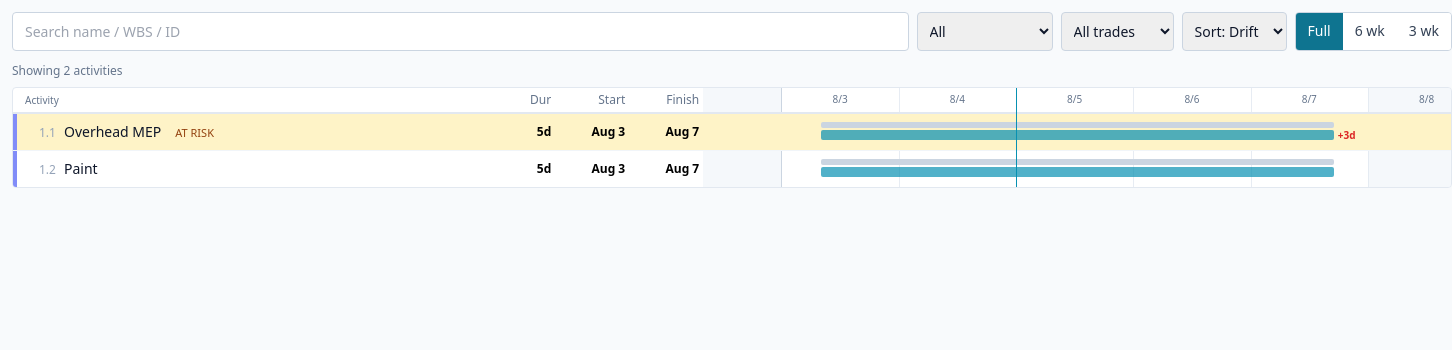
Test case: ScheduleBody › keeps the correct section name under a non-wbs sort
This screenshot has width=1452, height=350.
Click the text "Overhead MEP": (113, 131) x1=64 y1=122 x2=161 y2=140
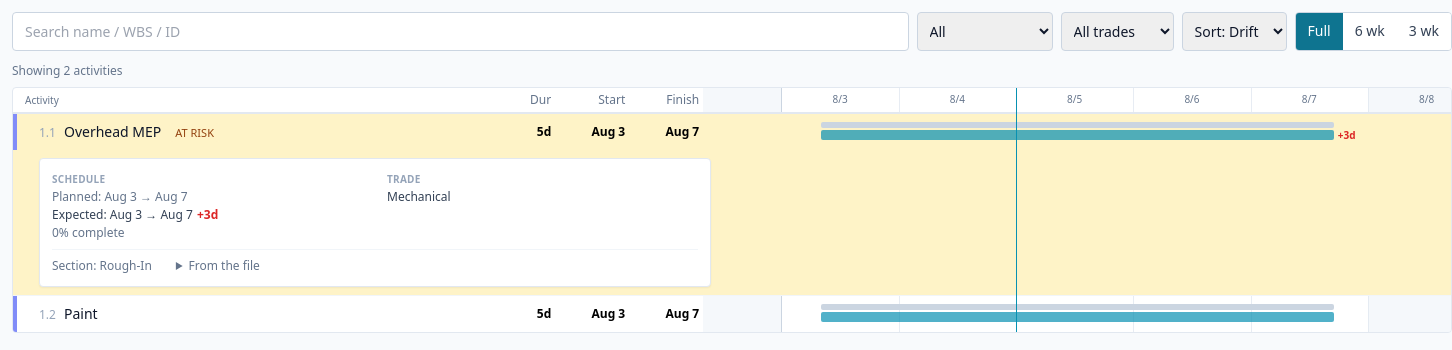
Now the text "Section: Rough-In" is shown, box x1=52 y1=258 x2=152 y2=274
